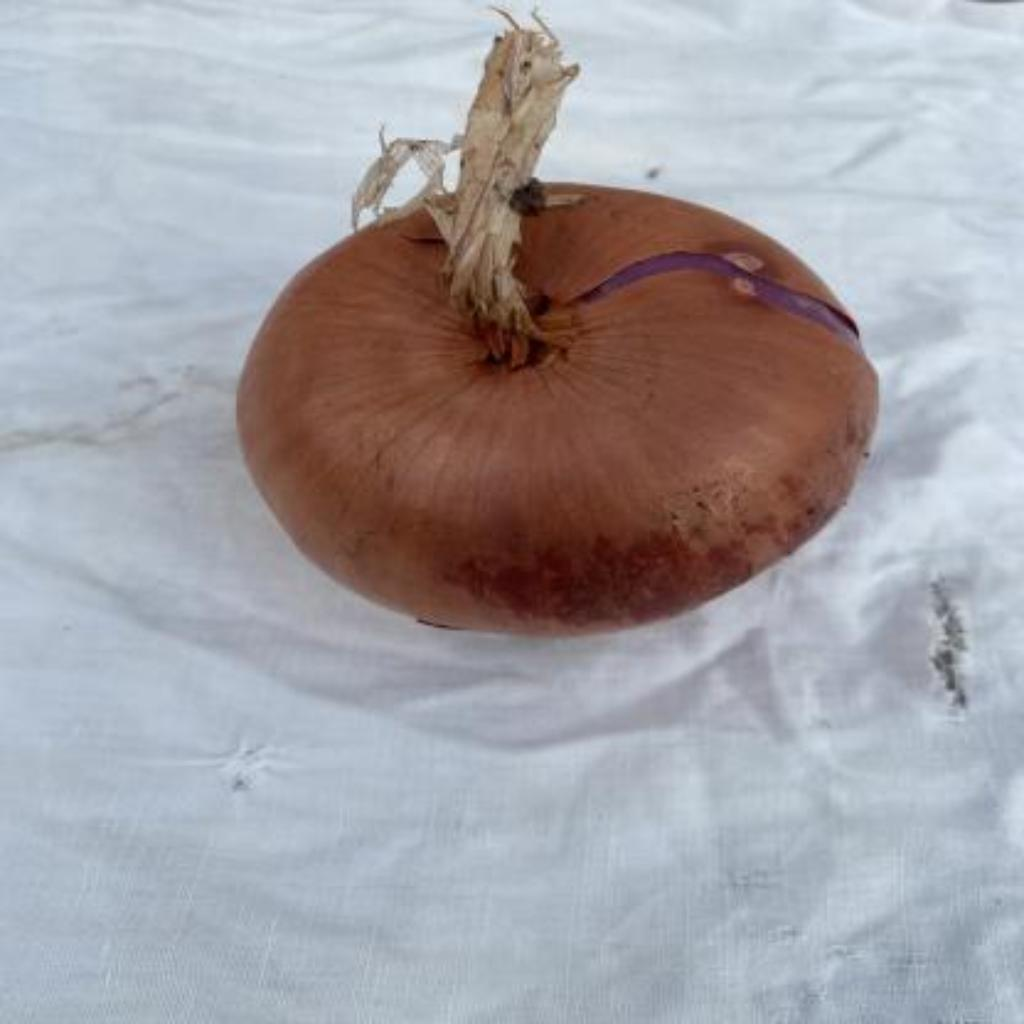Onion: (239, 12, 881, 634)
